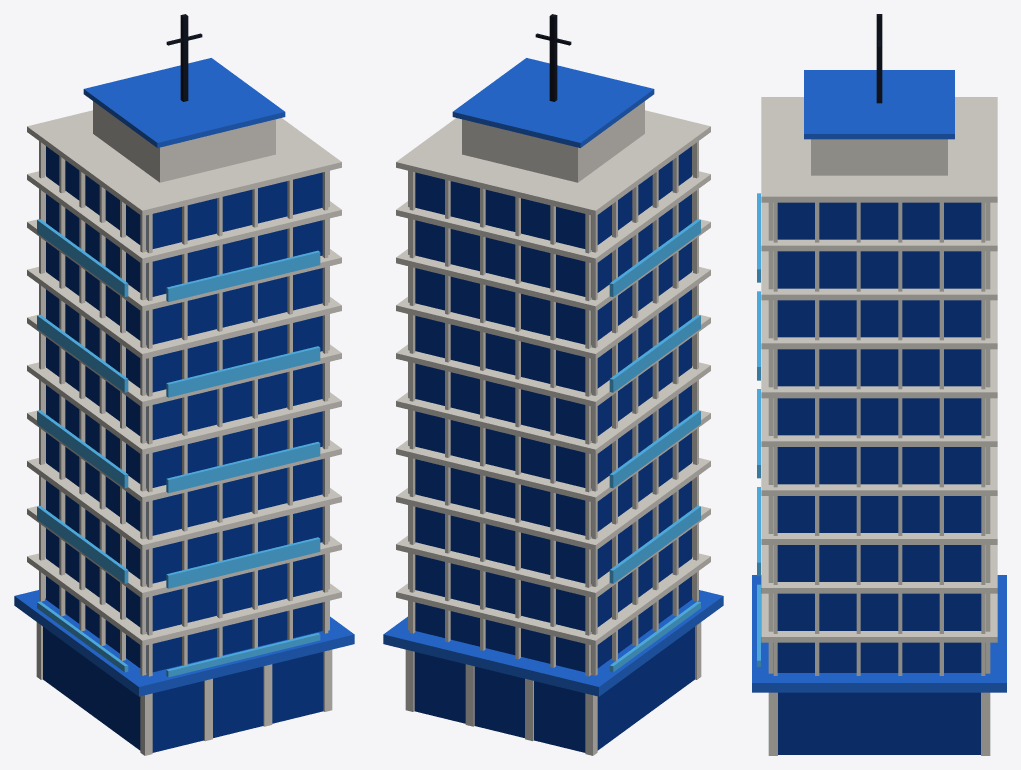
File: user_sf_bldg_1.glb
3 views of the same model, side by side, from view 1: azimuth 30°, elevation 25°; view 2: azimuth 150°, elevation 25°; view 3: azimuth 270°, elevation 25° (orthographic). The views are drawn at different scales.
Visible parts, largest first — view 1: ModernistHotel; view 2: ModernistHotel; view 3: ModernistHotel.
Boxes of the visible parts, x1,y1,x2,y2 form: ModernistHotel: [14, 14, 354, 755]; ModernistHotel: [383, 14, 723, 755]; ModernistHotel: [752, 14, 1006, 755].
Bounding box in the file's own units: 15.12 × 45.4 × 15.12.
